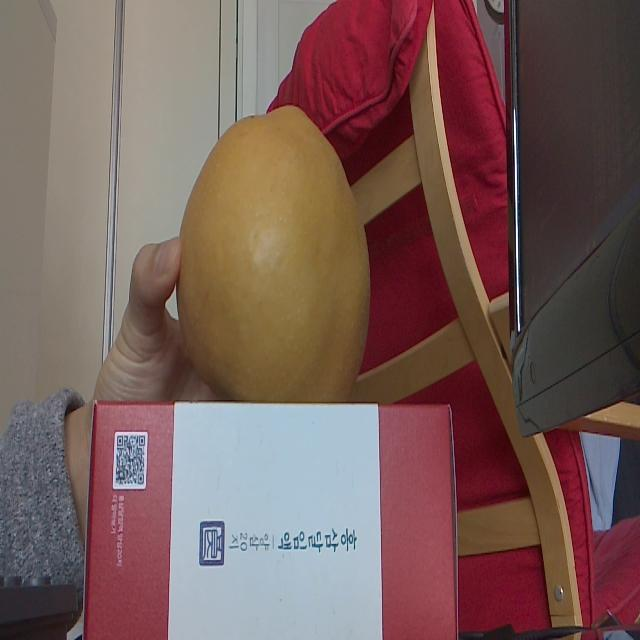pear: (176, 104, 372, 403)
